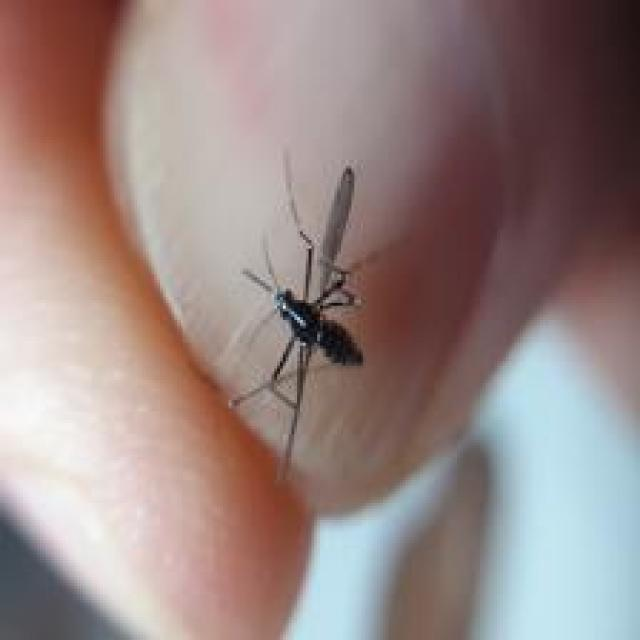Aedes albopictus: (224, 150, 367, 481)
